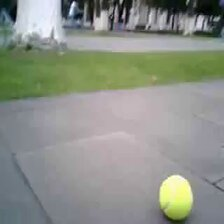tennis: (159, 175, 194, 222)
